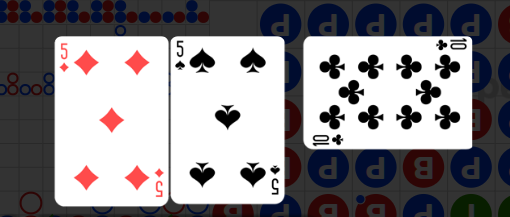10C: (433, 38, 468, 53)
5D: (58, 42, 70, 74)
5S: (174, 40, 187, 72)
